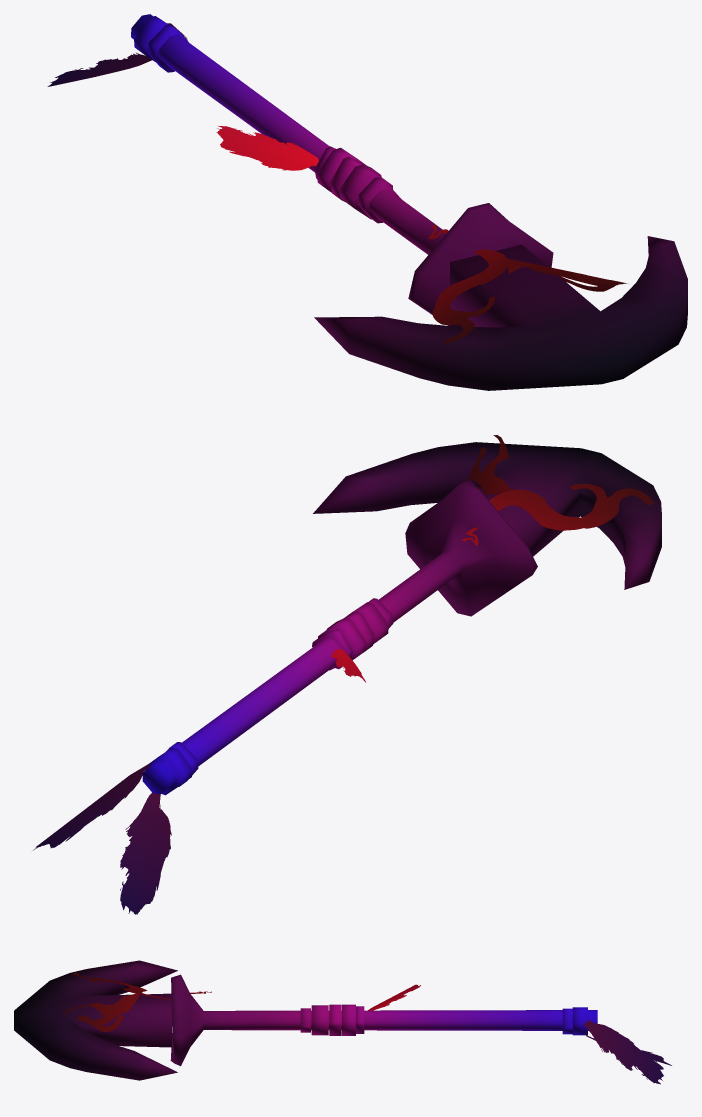
Rendered from Arrowback.fbx.
The picture shows the model from 3 angles, top to bottom: view 1: azimuth 30°, elevation 25°; view 2: azimuth 150°, elevation 25°; view 3: azimuth 270°, elevation 25°; orthographic projection. The views are drawn at different scales.
Visible parts, largest first — view 1: ArrowBack; view 2: ArrowBack; view 3: ArrowBack.
Boxes of the visible parts, x1=… form: ArrowBack: x1=47, y1=14, x2=687, y2=390; ArrowBack: x1=33, y1=435, x2=661, y2=914; ArrowBack: x1=14, y1=960, x2=671, y2=1084.
Bounding box in the file's own units: 3.05 × 1.5 × 8.53.
